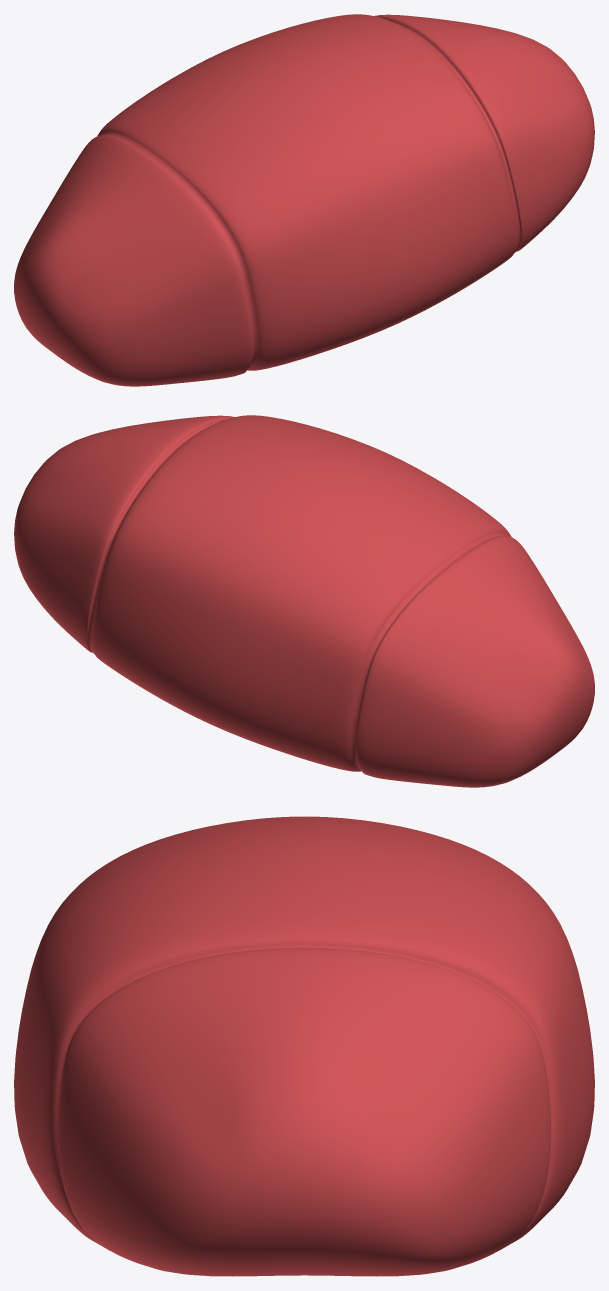
3 renders of one model, top to bottom at view 1: azimuth 30°, elevation 25°; view 2: azimuth 150°, elevation 25°; view 3: azimuth 270°, elevation 25°, orthographic. The views are drawn at different scales.
Visible parts, largest first — view 1: 立方体.004; view 2: 立方体.004; view 3: 立方体.004.
Part boxes in pixels (left/top/right/bottom): 立方体.004: left=14, top=14, right=594, bottom=386; 立方体.004: left=14, top=415, right=594, bottom=787; 立方体.004: left=14, top=816, right=594, bottom=1276.
Size of the model in its own units: 58.87 by 26.29 by 34.79.
